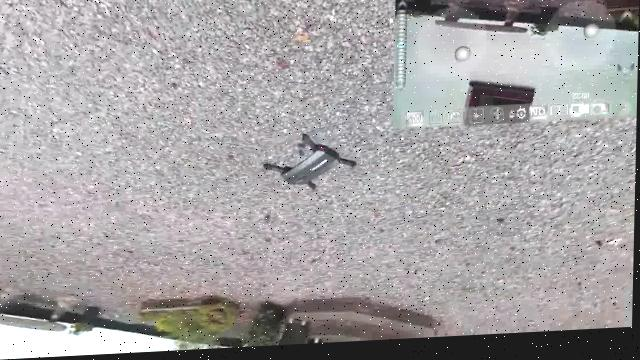drone: (258, 129, 365, 209)
